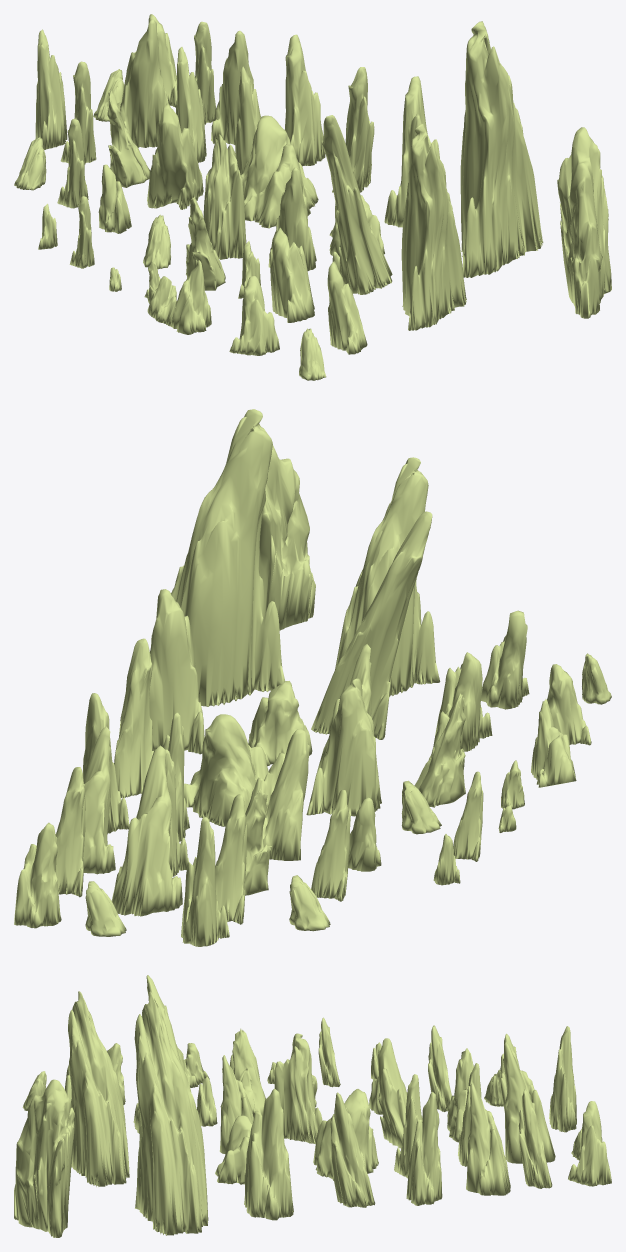
The picture shows the model from 3 angles, top to bottom: view 1: azimuth 30°, elevation 25°; view 2: azimuth 150°, elevation 25°; view 3: azimuth 270°, elevation 25°; orthographic projection. The views are drawn at different scales.
Parts seen in each view (by area): view 1: scatter_rocks___terrain; view 2: scatter_rocks___terrain; view 3: scatter_rocks___terrain.
Part boxes in pixels (x1,y1,x2,y2): scatter_rocks___terrain: (14,14,611,380); scatter_rocks___terrain: (14,409,611,946); scatter_rocks___terrain: (14,975,611,1237).
Size of the model in its own units: 2403 by 1459 by 3690.
